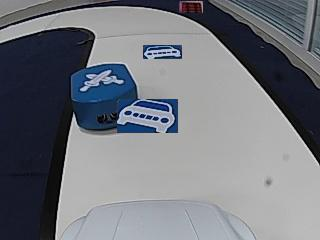spy: (79, 69, 123, 91)
